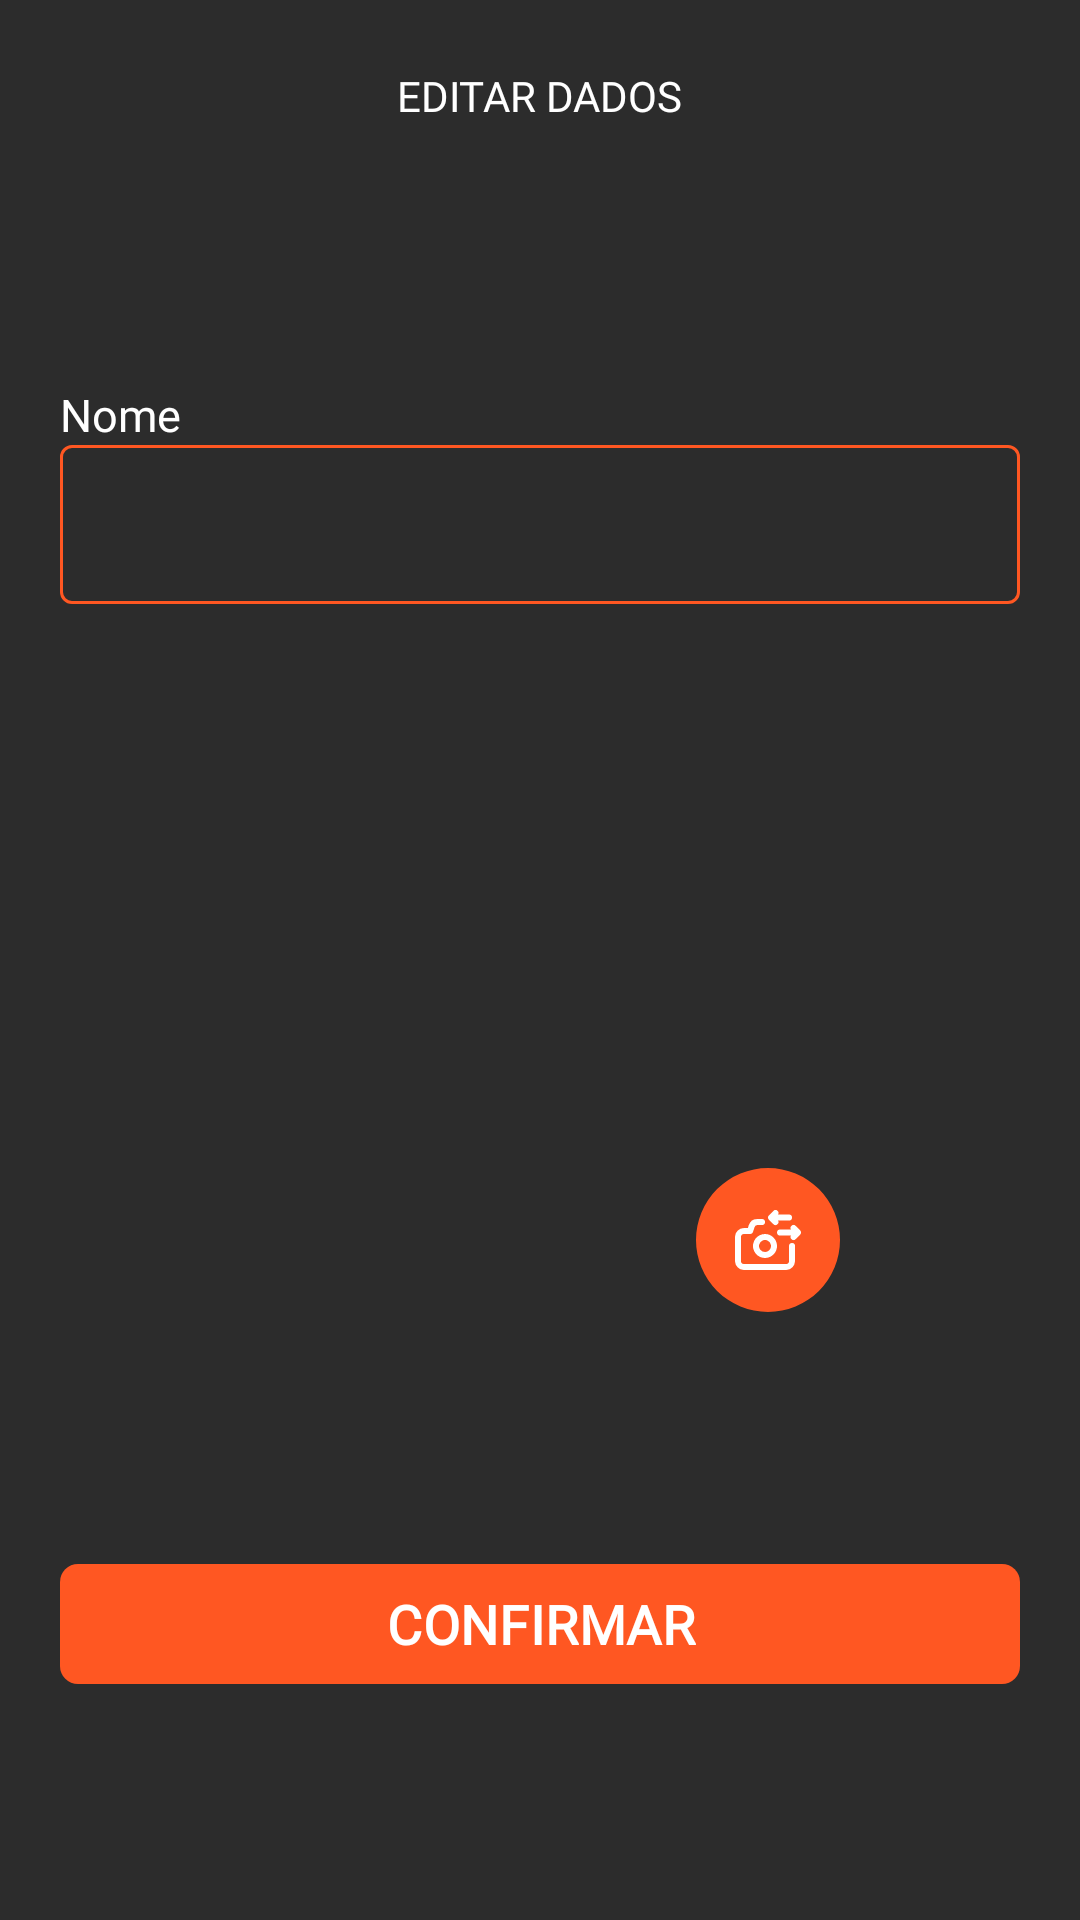

Locate icon controls on the screen. Image size 1080x1920, boxes as [x1,y1,x2,y2].
edit pic: [696,1168,840,1312]
